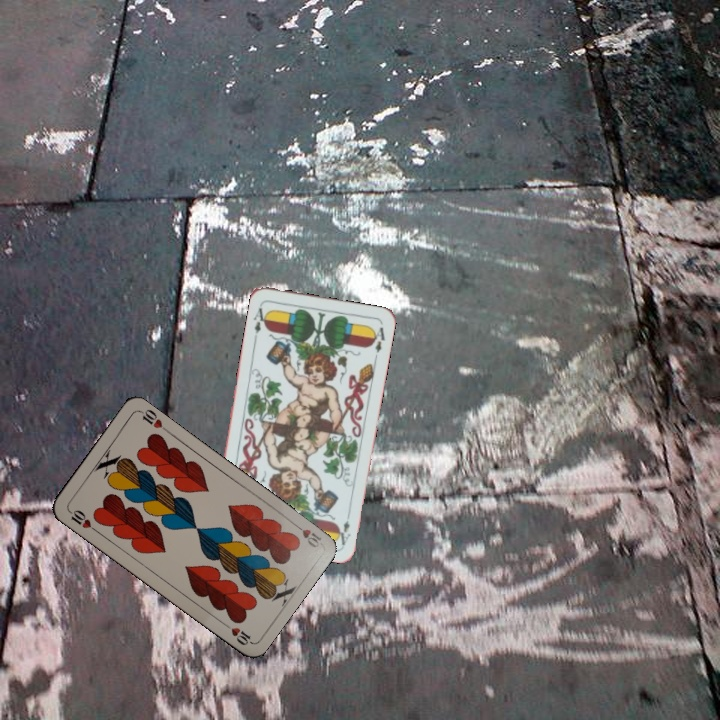EA: (249, 300, 271, 341), (333, 507, 353, 548)
H10: (289, 519, 324, 550), (64, 505, 100, 535)
